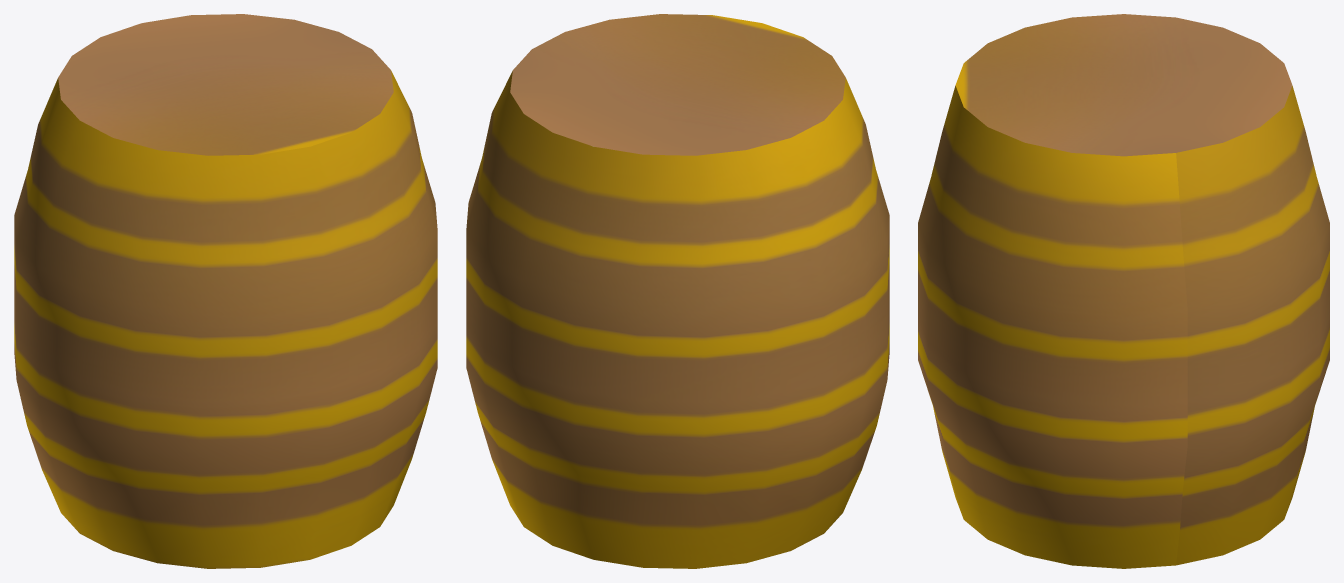
File: barrel.obj
3 renders of one model, left to right at view 1: azimuth 30°, elevation 25°; view 2: azimuth 150°, elevation 25°; view 3: azimuth 270°, elevation 25°, orthographic.
Parts seen in each view (by area): view 1: pCylinder1; view 2: pCylinder1; view 3: pCylinder1.
Boxes of the visible parts, x1,y1,x2,y2 form: pCylinder1: (14, 14, 437, 568); pCylinder1: (466, 14, 889, 568); pCylinder1: (918, 14, 1329, 568).
Size of the model in its own units: 1.55 by 1.64 by 1.49.
Materials: 1 (1 with a texture image).
